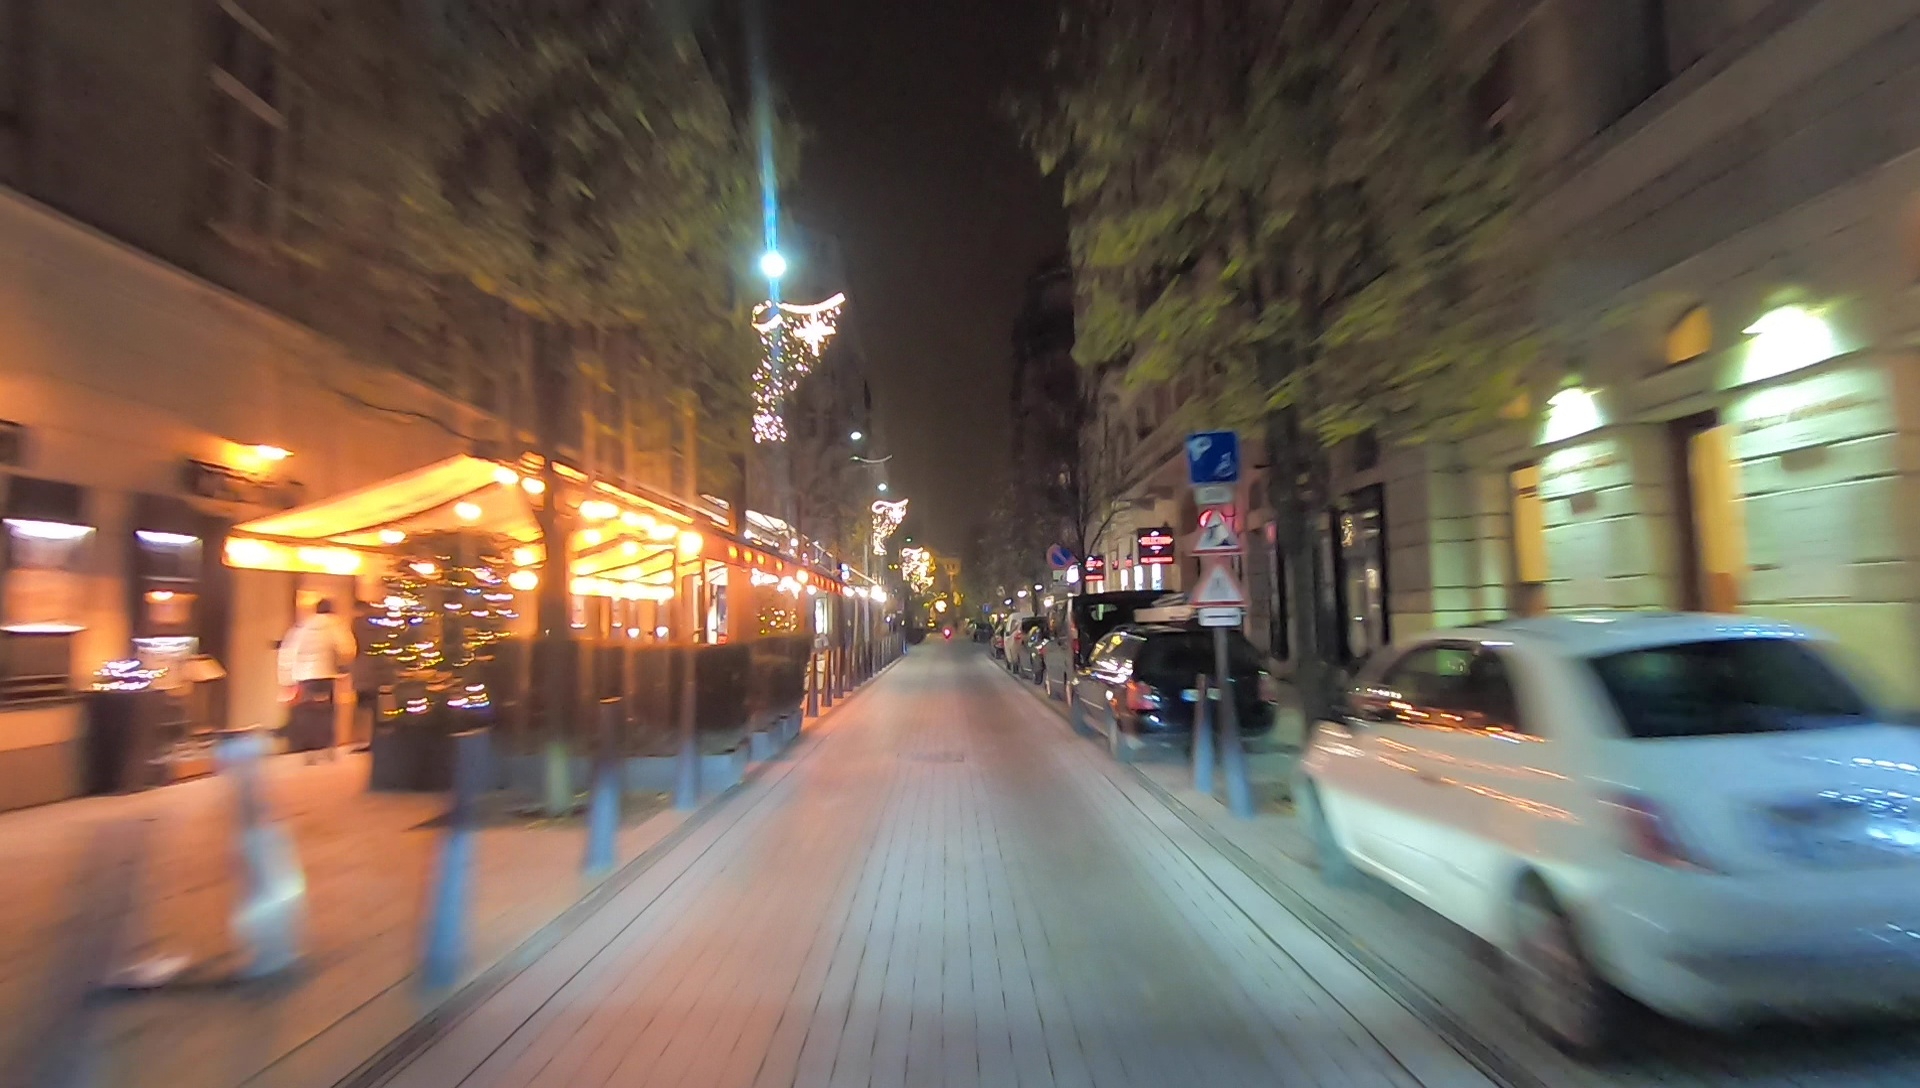person: (286, 600, 343, 767), (345, 606, 397, 752)
